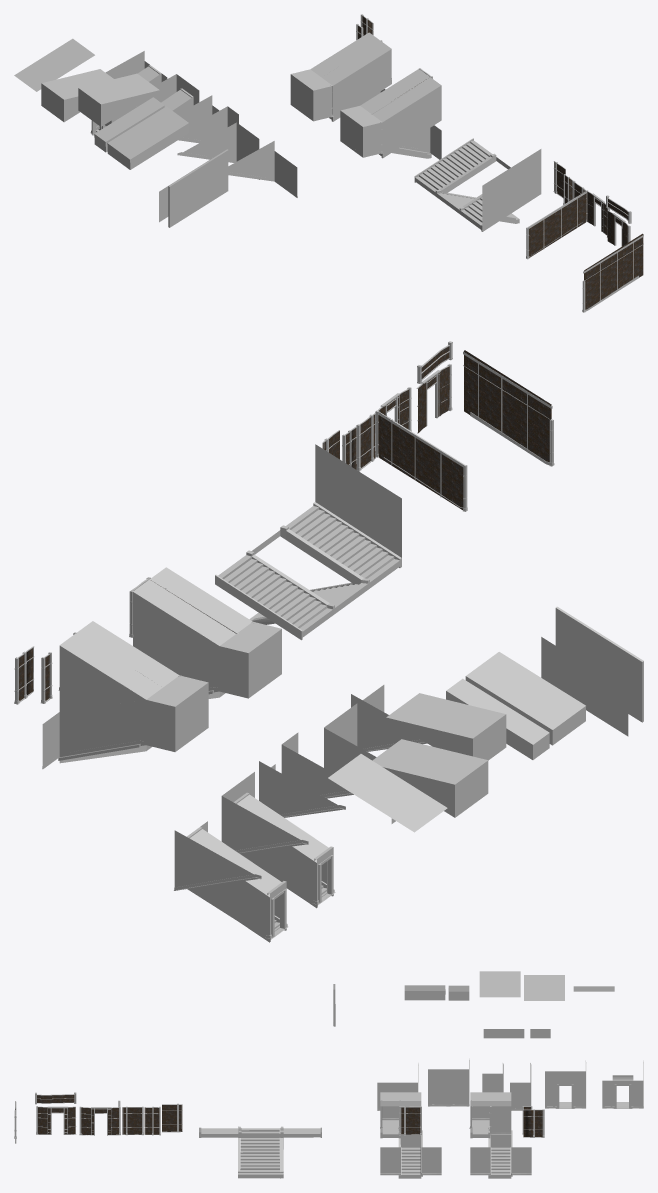
The model's file is PRISON_master_D.fbx.
The picture shows the model from 3 angles, top to bottom: view 1: azimuth 30°, elevation 25°; view 2: azimuth 150°, elevation 25°; view 3: azimuth 270°, elevation 25°; orthographic projection. The views are drawn at different scales.
Parts seen in each view (by area): view 1: prison_staircase_a, prison_staircase_b, prison_stairs_A, prison_wall_addon_d.001, prison_stairs_A_wireFence_F, prison_wall_staircase_4wall_A, prison_wall_staircase_4_ceilingGap, prison_wall_staircase_4, prison_stairs_A_wireFence_A, prison_wall_staircase_wall90_3a, prison_wall_staircase_3_ceilingGap, prison_wall_staircase_ceiling (+8 smaller); view 2: prison_staircase_b, prison_staircase_a, prison_stairs_A, prison_wall_staircase_wall90_4_downStairs, prison_wall_staircase_wall90_3_downStairs, prison_stairs_A_wireFence_F, prison_wall_staircase_4, prison_wall_staircase_3_ceilingGap, prison_wall_staircase_4_ceilingGap, prison_wall_addon_d.001, prison_stairs_A_wireFence_A, prison_wall_staircase_ceiling (+11 smaller); view 3: prison_staircase_b, prison_staircase_a, prison_stairs_A, prison_wall_staircase_wall90_4a, prison_wall_staircase_wall90_4_downStairs, prison_wall_staircase_wall90_3_downStairs, prison_wall_staircase_4_ceilingGap, prison_wall_staircase_3_ceilingGap, prison_stairs_A_entrance_a, prison_stairs_A_entrance_b, prison_wall_addon_d.001, prison_stairs_A_wireFence_D.3X2 (+9 smaller).
Boxes of the visible parts, bbox=[...] form: prison_staircase_a: bbox=[340, 68, 441, 159]; prison_staircase_b: bbox=[290, 32, 391, 121]; prison_stairs_A: bbox=[414, 138, 541, 231]; prison_wall_addon_d.001: bbox=[107, 106, 188, 169]; prison_stairs_A_wireFence_F: bbox=[582, 233, 643, 312]; prison_wall_staircase_4wall_A: bbox=[168, 149, 228, 227]; prison_wall_staircase_4_ceilingGap: bbox=[78, 73, 159, 126]; prison_wall_staircase_4: bbox=[482, 149, 541, 225]; prison_stairs_A_wireFence_A: bbox=[526, 190, 587, 259]; prison_wall_staircase_wall90_3a: bbox=[228, 141, 297, 197]; prison_wall_staircase_3_ceilingGap: bbox=[41, 69, 113, 122]; prison_wall_staircase_ceiling: bbox=[14, 38, 94, 91]; prison_staircase_b: bbox=[42, 621, 208, 769]; prison_staircase_a: bbox=[129, 567, 281, 698]; prison_stairs_A: bbox=[215, 502, 401, 640]; prison_wall_staircase_wall90_4_downStairs: bbox=[221, 772, 335, 908]; prison_wall_staircase_wall90_3_downStairs: bbox=[174, 821, 288, 942]; prison_stairs_A_wireFence_F: bbox=[463, 350, 554, 466]; prison_wall_staircase_4: bbox=[315, 444, 401, 557]; prison_wall_staircase_3_ceilingGap: bbox=[372, 739, 488, 817]; prison_wall_staircase_4_ceilingGap: bbox=[386, 693, 506, 760]; prison_wall_addon_d.001: bbox=[465, 652, 585, 745]; prison_stairs_A_wireFence_A: bbox=[377, 410, 467, 511]; prison_wall_staircase_ceiling: bbox=[328, 754, 447, 832]; prison_staircase_b: bbox=[469, 1092, 531, 1178]; prison_staircase_a: bbox=[380, 1092, 441, 1178]; prison_stairs_A: bbox=[199, 1126, 321, 1178]; prison_wall_staircase_wall90_4a: bbox=[428, 1058, 469, 1106]; prison_wall_staircase_wall90_4_downStairs: bbox=[545, 1060, 586, 1108]; prison_wall_staircase_wall90_3_downStairs: bbox=[602, 1060, 643, 1108]; prison_wall_staircase_4_ceilingGap: bbox=[479, 971, 520, 997]; prison_wall_staircase_3_ceilingGap: bbox=[524, 975, 564, 1000]; prison_stairs_A_entrance_a: bbox=[79, 1106, 120, 1135]; prison_stairs_A_entrance_b: bbox=[36, 1106, 76, 1134]; prison_wall_addon_d.001: bbox=[404, 985, 445, 1000]; prison_stairs_A_wireFence_D.3X2: bbox=[523, 1109, 544, 1137].
Bounding box in the file's own units: 31.65 × 11.18 × 61.58.
